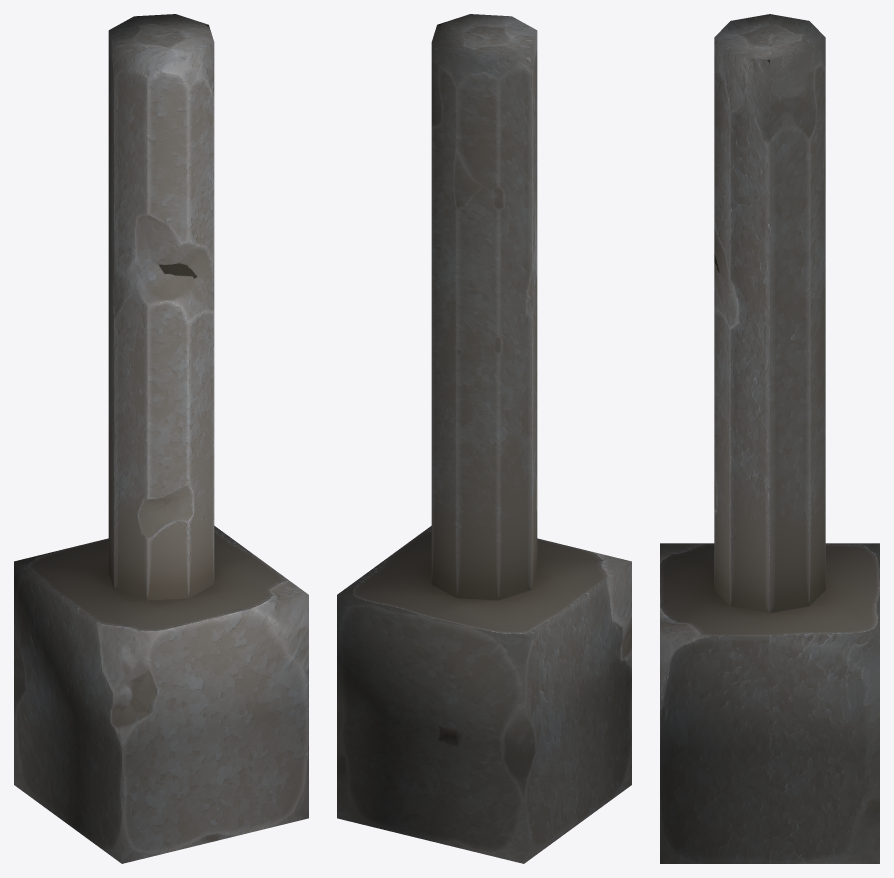
File: MusicRockBase.fbx
3 renders of one model, left to right at view 1: azimuth 30°, elevation 25°; view 2: azimuth 150°, elevation 25°; view 3: azimuth 270°, elevation 25°, orthographic.
Parts seen in each view (by area): view 1: BaseLow; view 2: BaseLow; view 3: BaseLow.
Boxes of the visible parts, x1,y1,x2,y2 form: BaseLow: (14,14,308,863); BaseLow: (337,14,631,863); BaseLow: (660,14,879,863).
Bounding box in the file's own units: 70 × 274 × 70.
